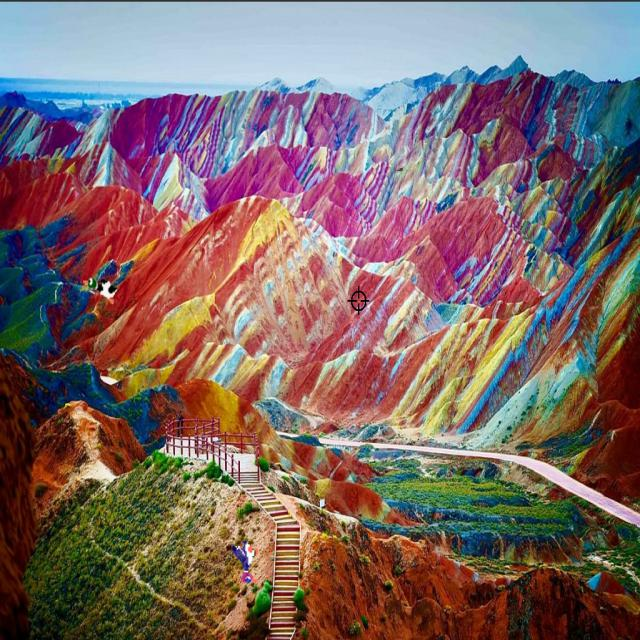duck: (80, 264, 124, 312)
falling_duck: (231, 536, 262, 588)
